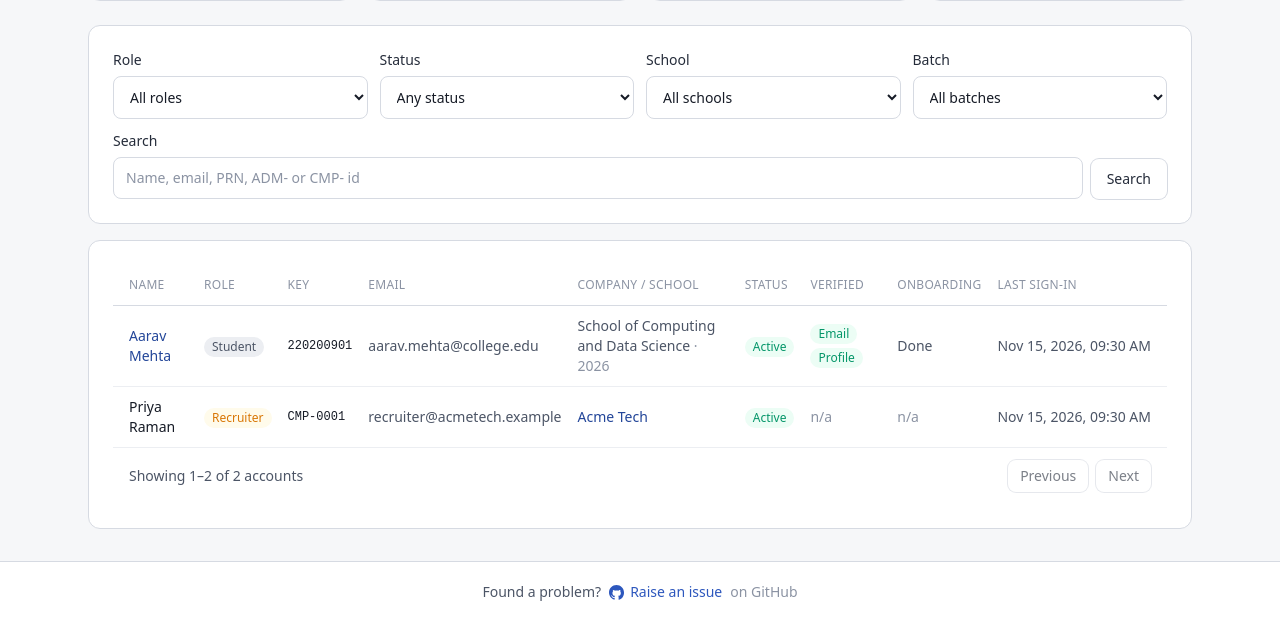
Test: all users page › links a student to their profile and a recruiter to their company
The width and height of the screenshot is (1280, 622).
(page scrolled)
Click the button "Acme Tech".
click(613, 417)  # box x1=578 y1=407 x2=648 y2=427
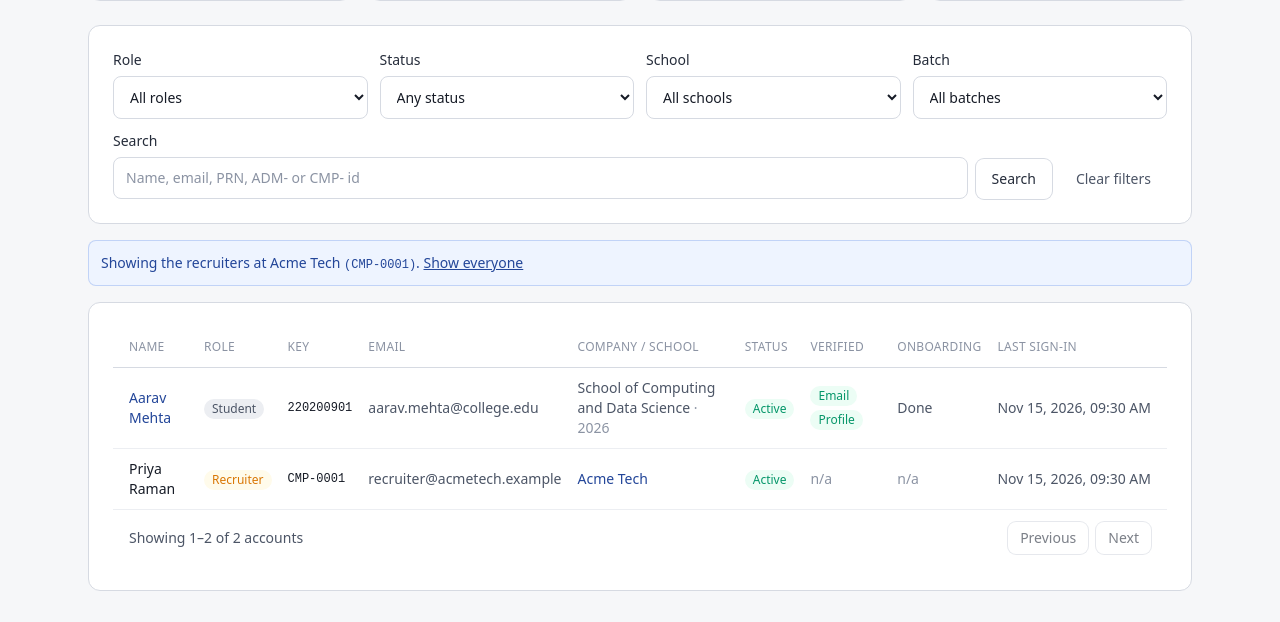
Expected: the cell "CMP-0001" is shown, x1=288 y1=448 x2=368 y2=509
Now the text "Showing the recruiters at" shows "Acme Tech", box x1=270 y1=253 x2=340 y2=272
